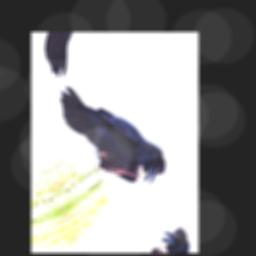Crow: (56, 50, 169, 215)
